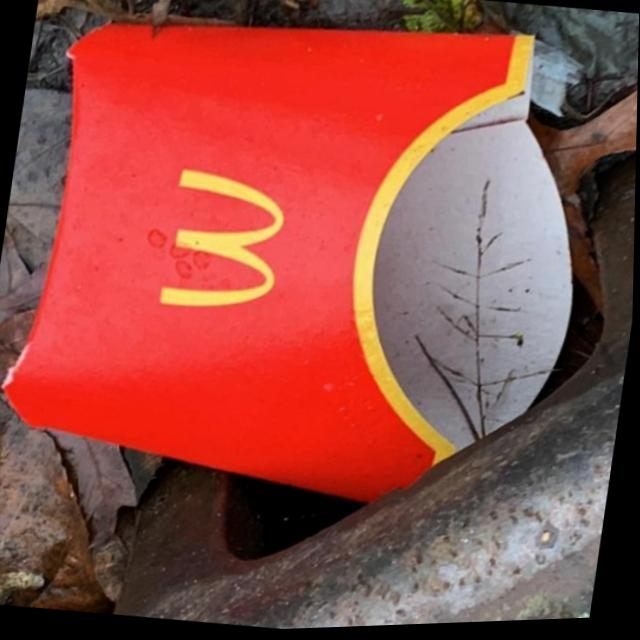Paper: (0, 0, 618, 544)
